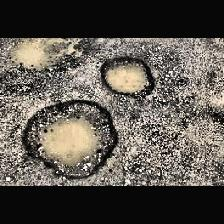pothole: (20, 98, 120, 182), (7, 38, 87, 74), (100, 56, 156, 98)
